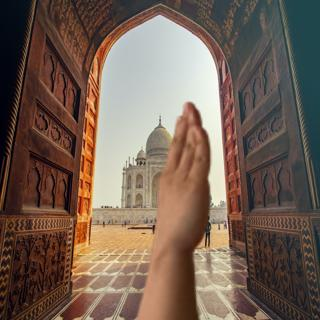RIGHT: (147, 95, 219, 256)
